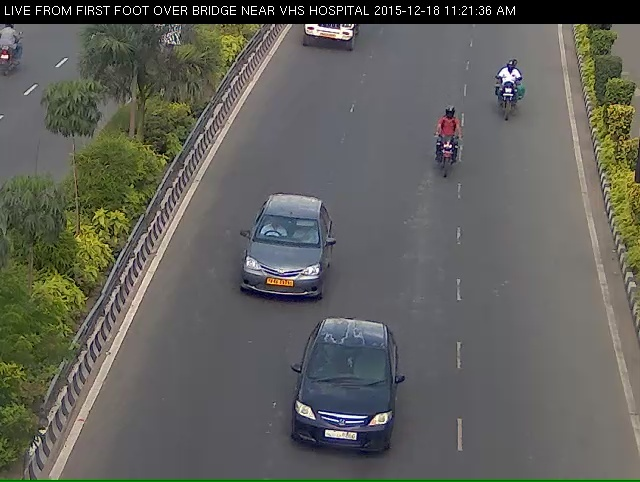Car: (281, 333, 397, 475), (243, 198, 330, 309)
Person: (491, 63, 530, 137), (433, 114, 468, 196)
